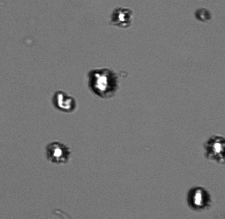Dead Cell: (193, 4, 213, 23)
Living Cell: (87, 67, 118, 98), (186, 185, 212, 211), (45, 140, 70, 164), (53, 90, 77, 114), (205, 135, 223, 163), (110, 7, 135, 27)
